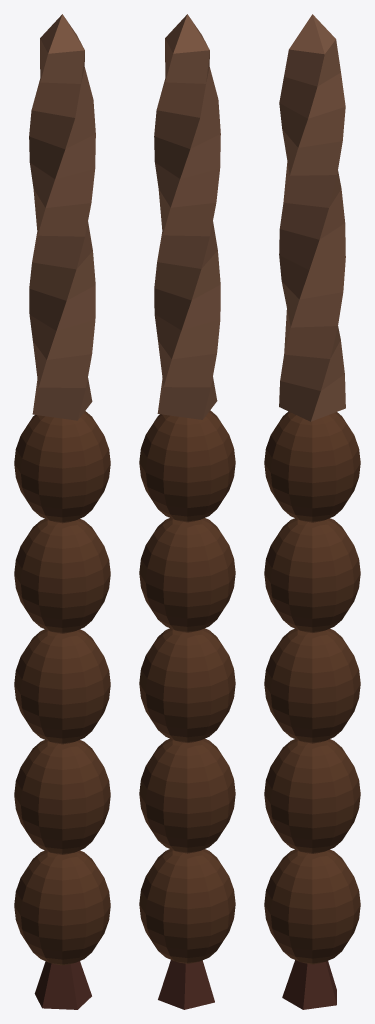
File: Wand 258.glb
3 renders of one model, left to right at view 1: azimuth 30°, elevation 25°; view 2: azimuth 210°, elevation 25°; view 3: azimuth 270°, elevation 25°, orthographic.
Parts seen in each view (by area): view 1: GeneratedWand; view 2: GeneratedWand; view 3: GeneratedWand.
Part boxes in pixels (left/top/right/bottom): GeneratedWand: left=14, top=14, right=110, bottom=1009; GeneratedWand: left=139, top=14, right=235, bottom=1009; GeneratedWand: left=264, top=14, right=360, bottom=1009.
Size of the model in its own units: 0.0447 by 0.5051 by 0.0449.
